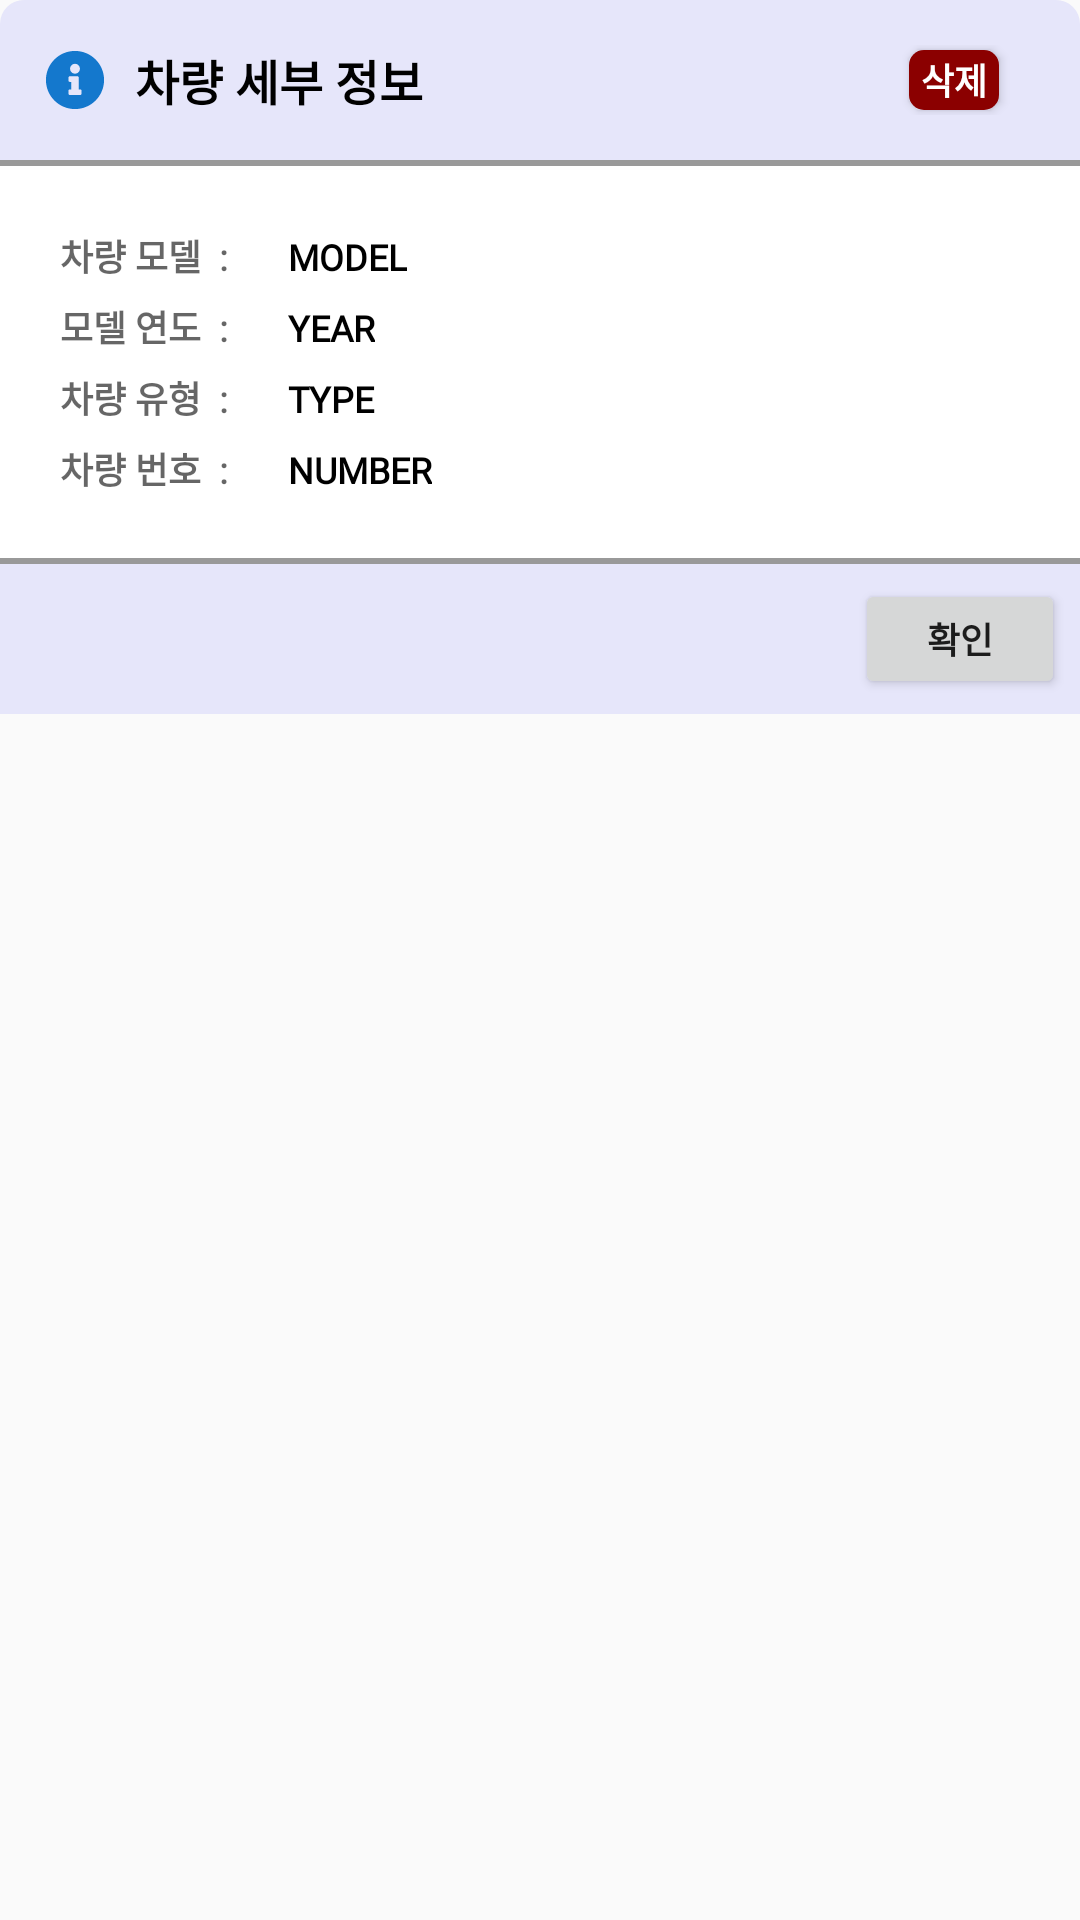

Icon click points for this 1080 x 1920 phone screenshot, format (x=x, y=y):
info circle: (x=75, y=80)
